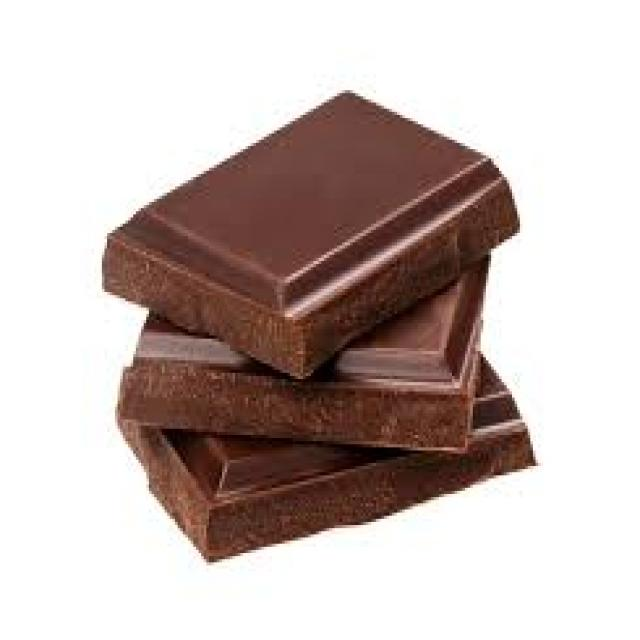chocolate: (103, 85, 539, 564)
